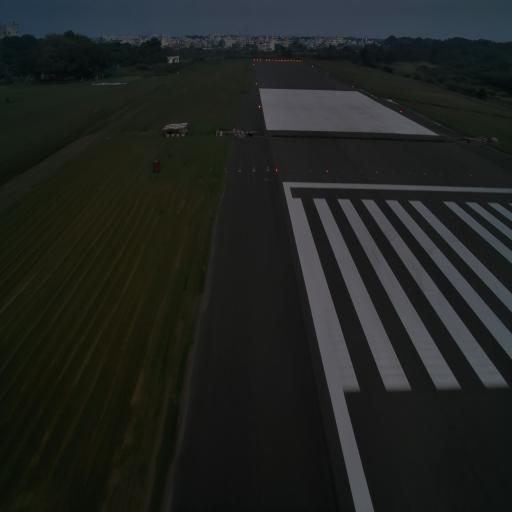off: (291, 167, 296, 175), (438, 170, 442, 179), (454, 170, 458, 178), (483, 173, 487, 181), (498, 172, 502, 180), (342, 167, 345, 176), (407, 169, 410, 177), (309, 167, 312, 174), (359, 168, 362, 175), (392, 168, 394, 178)
on: (468, 170, 474, 180), (237, 166, 242, 176), (324, 167, 330, 174), (275, 165, 279, 175), (252, 166, 256, 176), (266, 164, 270, 174), (374, 168, 378, 176), (423, 169, 426, 176)
